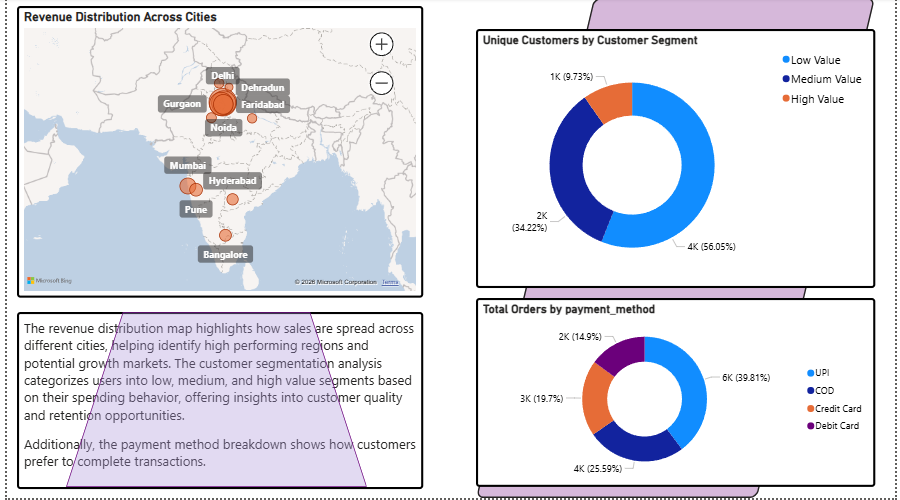

The dashboard page shown, as its layout file describes it:
{"tool":"powerbi","page":{"name":"Customer Segmentation & Sales Insights","canvas":[1280,720],"ordinal":4},"visuals":[{"type":"map","title":"Revenue Distribution Across Cities","fields":{"Category":["fact_orders.city"],"Size":["Measures (2).Total Revenue"]},"box":[14.4,11.5,584.6,420.5],"z":1000},{"type":"shape","box":[675.4,0,574.6,720],"z":2000},{"type":"donutChart","fields":{"Category":["fact_orders.Customer Segment"],"Y":["Measures (2).Unique Customers"]},"box":[675.4,44.6,574.6,373],"z":3000},{"type":"donutChart","fields":{"Category":["fact_orders.payment_method"],"Y":["Measures (2).Total Orders"]},"box":[675.4,432,574.6,272.2],"z":4000},{"type":"textbox","box":[14.4,452.2,584.6,254.9],"z":5000},{"type":"shape","box":[85,452.2,433.4,252],"z":6000}]}

Visuals, with their boxes in screenshot pixels (x1, y1, x2, y2), scaled from the page's 1280x720 canvas onto the 900x500 screenshot:
"Revenue Distribution Across Cities" map: bbox=(10, 8, 421, 300)
shape: bbox=(475, 0, 879, 499)
donutChart - fact_orders.Customer Segment x Measures (2).Unique Customers: bbox=(475, 31, 879, 290)
donutChart - fact_orders.payment_method x Measures (2).Total Orders: bbox=(475, 300, 879, 489)
textbox: bbox=(10, 314, 421, 491)
shape: bbox=(60, 314, 364, 489)
